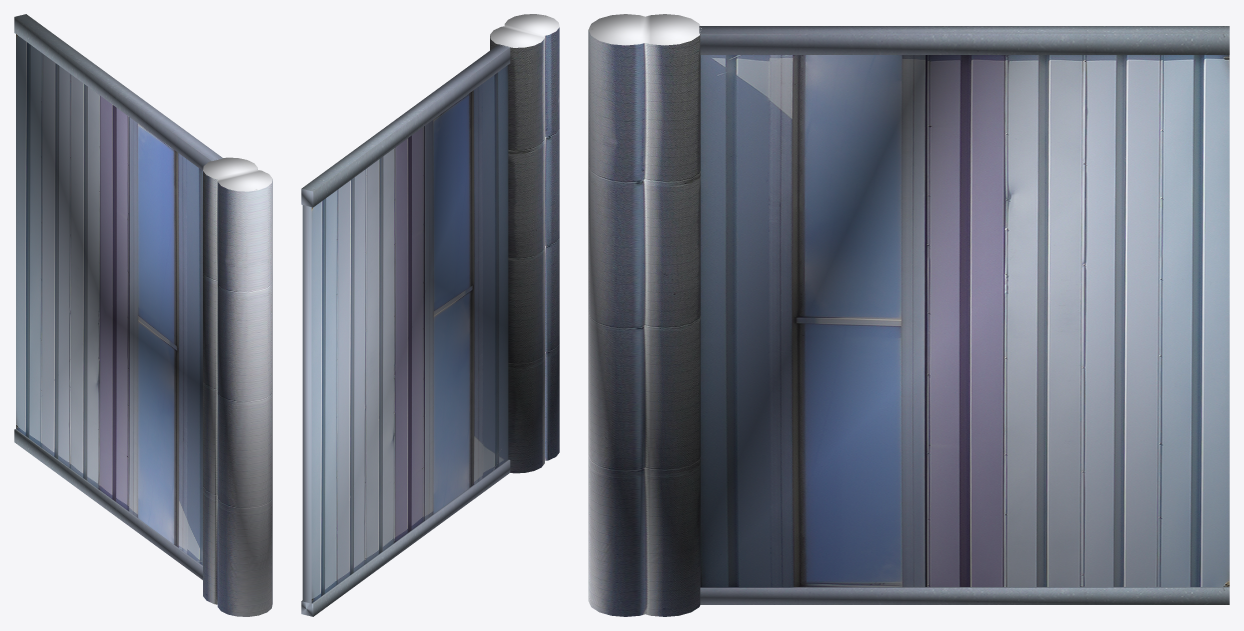
File: RTE2701220921_0285L_01_normalization.obj
3 views of the same model, side by side, from view 1: azimuth 30°, elevation 25°; view 2: azimuth 150°, elevation 25°; view 3: azimuth 270°, elevation 25° (orthographic). The views are drawn at different scales.
Parts seen in each view (by area): view 1: RTE2701220921_0285S_01; view 2: RTE2701220921_0285S_01; view 3: RTE2701220921_0285S_01.
Boxes of the visible parts, x1,y1,x2,y2 form: RTE2701220921_0285S_01: (14, 14, 272, 616); RTE2701220921_0285S_01: (301, 14, 559, 616); RTE2701220921_0285S_01: (588, 14, 1229, 616).
Size of the model in its own units: 0.0826 by 0.6988 by 0.7105.
1 material, 1 textured.
